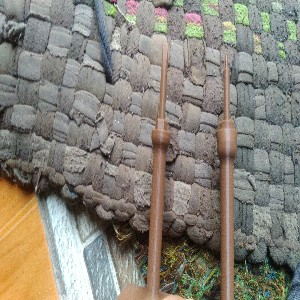obeng: (146, 42, 170, 300)
solder: (215, 53, 239, 300)
